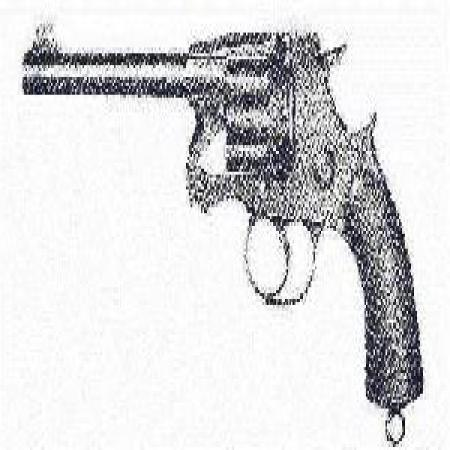Pistol: (25, 12, 429, 402)
